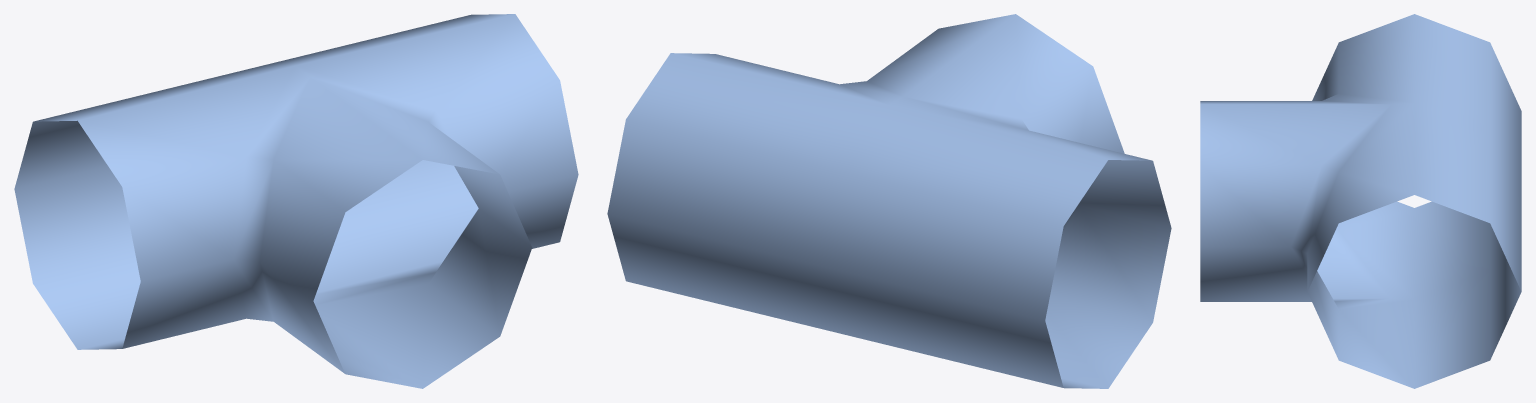
The model's file is PipeSmall_Cross_T.fbx.
3 views of the same model, side by side, from view 1: azimuth 30°, elevation 25°; view 2: azimuth 150°, elevation 25°; view 3: azimuth 270°, elevation 25° (orthographic). The views are drawn at different scales.
Parts seen in each view (by area): view 1: PipeSmall_Cross_T.001; view 2: PipeSmall_Cross_T.001; view 3: PipeSmall_Cross_T.001.
Part boxes in pixels (bbox=[...]): PipeSmall_Cross_T.001: bbox=[14, 14, 578, 388]; PipeSmall_Cross_T.001: bbox=[607, 14, 1171, 388]; PipeSmall_Cross_T.001: bbox=[1200, 14, 1521, 388].
Bounding box in the file's own units: 0.2 × 0.1015 × 0.15.
